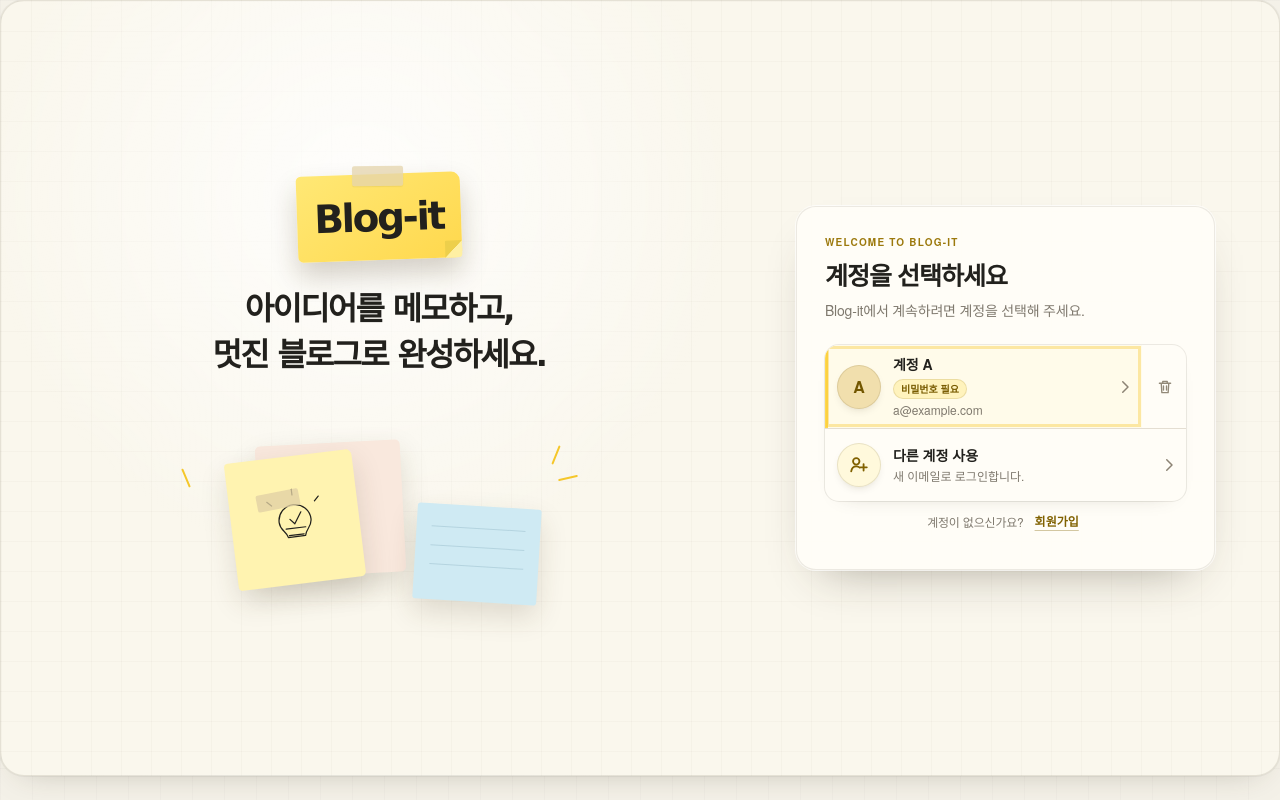
Test: AuthView multi-account flow › shows even one remembered account in the chooser and requests its password
The width and height of the screenshot is (1280, 800).
Expected: the heading with id "authTitle" reads "계정을 선택하세요", 825,257 -> 1007,293
Click the button with aria-label "계정 A, a@example.com 계정 선택". click: (859, 387)
box: 825,345 -> 1142,428
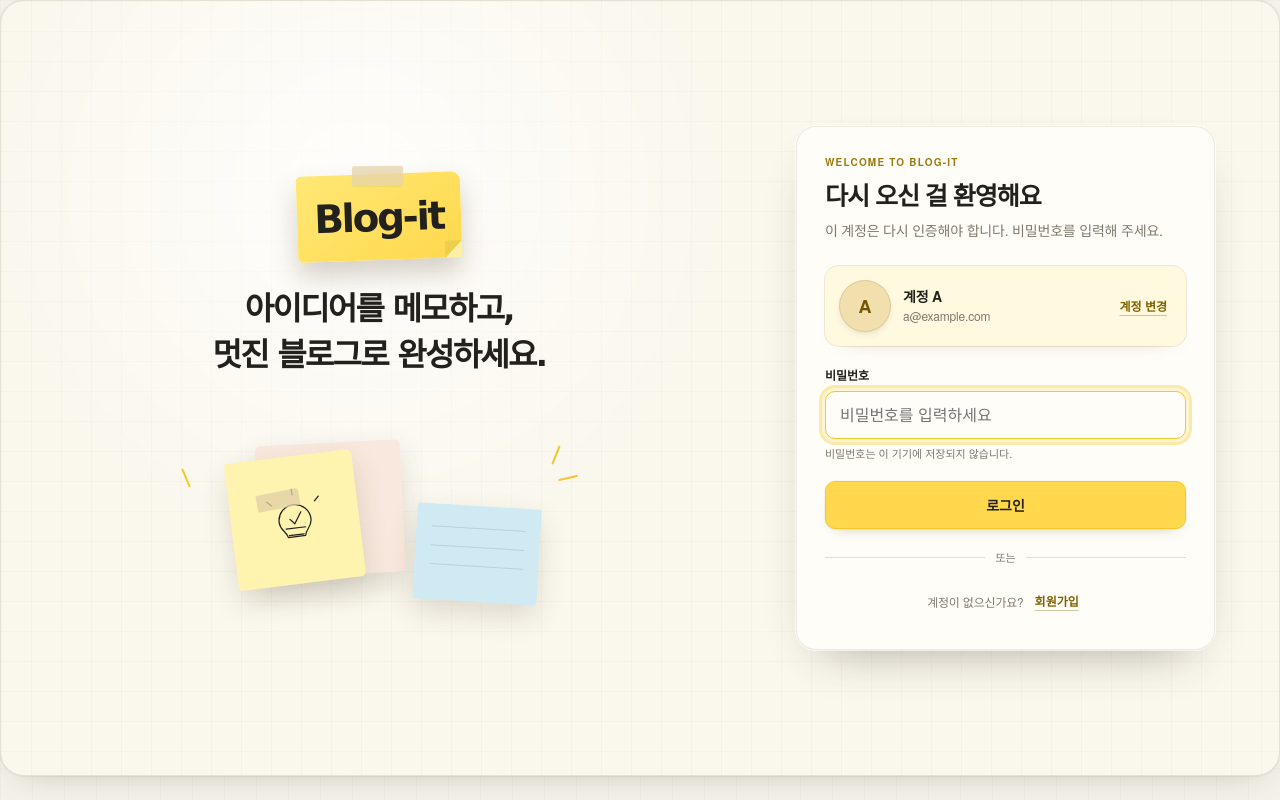
Expected: the password field with id "authPassword" is empty, 825,391 -> 1186,439
Expected: the form named "email" holds "a@example.com", 825,366 -> 1186,529
